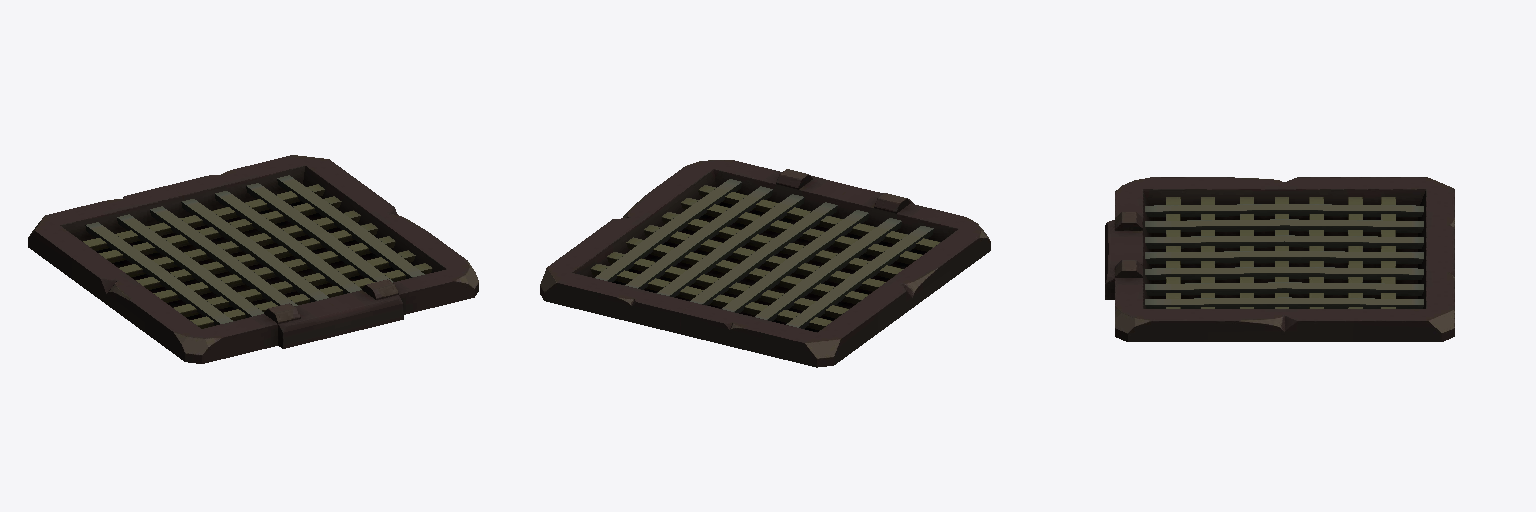
3 renders of one model, left to right at view 1: azimuth 30°, elevation 25°; view 2: azimuth 150°, elevation 25°; view 3: azimuth 270°, elevation 25°, orthographic.
Visible parts, largest first — view 1: OBJ_Cellars_01; view 2: OBJ_Cellars_01; view 3: OBJ_Cellars_01.
Boxes of the visible parts, <box> form: OBJ_Cellars_01: <box>28,155,478,363</box>; OBJ_Cellars_01: <box>540,160,990,367</box>; OBJ_Cellars_01: <box>1105,177,1454,341</box>.
Bounding box in the file's own units: 3.6 × 0.3403 × 3.7.
1 materials, 1 textured.